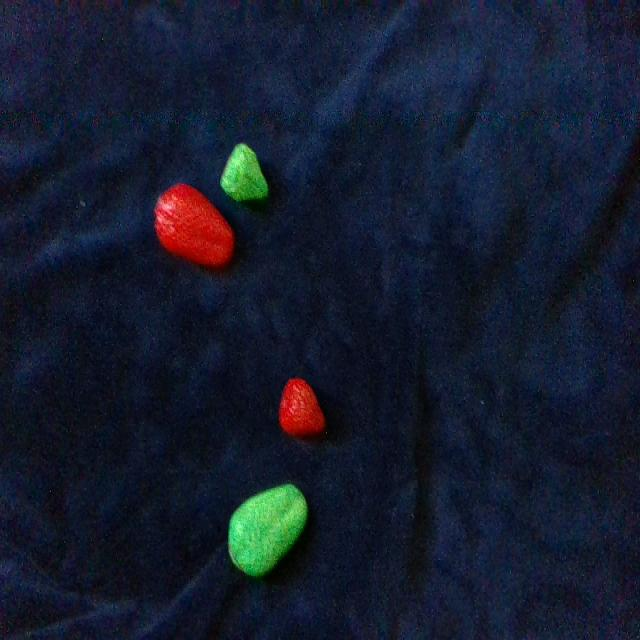chica_roja: (280, 380, 325, 436)
grande_roja: (155, 184, 234, 265)
verde: (228, 484, 307, 576), (220, 143, 268, 200)
